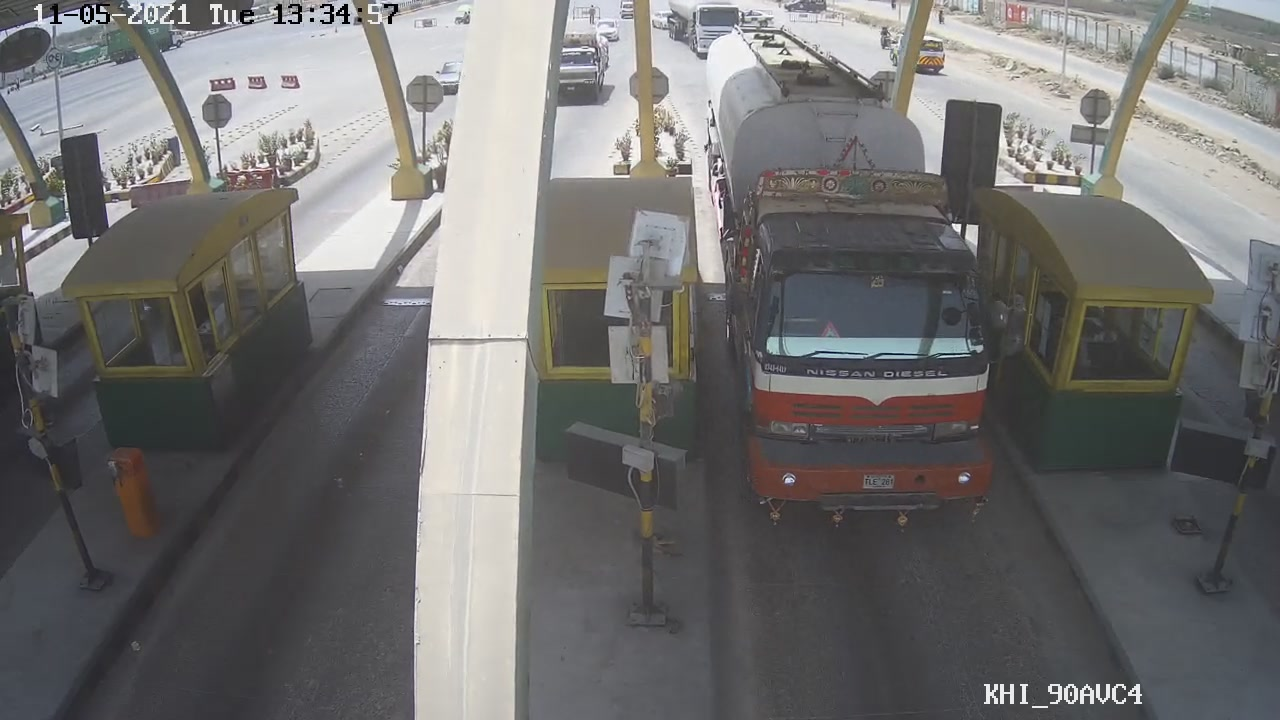F6: (701, 27, 1009, 529)
